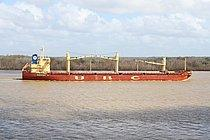Ship: (20, 64, 198, 86)
